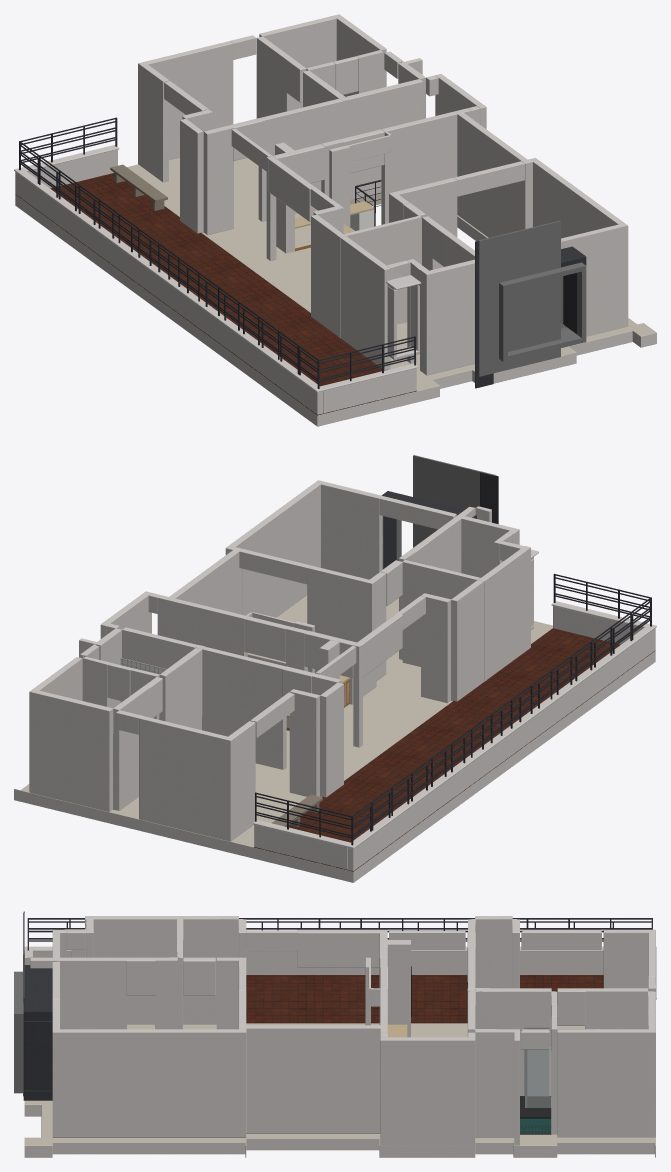
Rendered from second.gltf.
3 renders of one model, top to bottom at view 1: azimuth 30°, elevation 25°; view 2: azimuth 150°, elevation 25°; view 3: azimuth 270°, elevation 25°, orthographic. The views are drawn at different scales.
Visible parts, largest first — view 1: Lime White_wall.003, Lime White.003, Terracotta.002, Charcoal Plaster_wall.001, Terrazzo.003, Charcoal Steel.002, Lime White_high.003, Lime White Shade.002, Charcoal Steel_high.001, Cladding.001, Weathered Teak; view 2: Lime White_wall.003, Lime White.003, Terracotta.002, Terrazzo.003, Lime White_high.003, Charcoal Steel.002, Lime White Shade.002, Charcoal Plaster_wall.001, Charcoal Steel_high.001, Cladding.001, Weathered Teak; view 3: Lime White_wall.003, Lime White.003, Terracotta.002, Lime White_high.003, Terrazzo.003, Cladding.001, Charcoal Steel.002, Glass.001, Charcoal Plaster_wall.001, Brushed Steel.001, Black Slate, Charcoal Steel_high.001 (+2 smaller).
Part boxes in pixels (box(x1,y1,x2,y2)): Lime White_wall.003: box(138, 14, 628, 375); Lime White.003: box(15, 142, 656, 426); Terracotta.002: box(15, 173, 416, 415); Charcoal Plaster_wall.001: box(479, 220, 586, 376); Terrazzo.003: box(127, 157, 656, 390); Charcoal Steel.002: box(19, 117, 415, 388); Lime White_high.003: box(164, 35, 563, 285); Lime White Shade.002: box(14, 145, 417, 392); Charcoal Steel_high.001: box(19, 121, 414, 372); Cladding.001: box(475, 240, 586, 388); Weathered Teak: box(110, 164, 167, 210); Lime White_wall.003: box(29, 480, 530, 841); Lime White.003: box(14, 549, 655, 882); Terracotta.002: box(254, 628, 655, 871); Terrazzo.003: box(14, 595, 552, 847); Lime White_high.003: box(80, 496, 523, 737); Charcoal Steel.002: box(255, 573, 651, 845); Lime White Shade.002: box(253, 601, 656, 848); Charcoal Plaster_wall.001: box(382, 455, 494, 569); Charcoal Steel_high.001: box(256, 577, 651, 829); Cladding.001: box(382, 472, 498, 568); Weathered Teak: box(271, 794, 322, 826); Lime White_wall.003: box(24, 916, 655, 1145); Lime White.003: box(24, 929, 655, 1157); Terracotta.002: box(246, 975, 603, 1023); Lime White_high.003: box(52, 919, 655, 1049); Terrazzo.003: box(24, 1023, 655, 1145); Cladding.001: box(23, 911, 52, 1100); Charcoal Steel.002: box(27, 918, 652, 950); Glass.001: box(527, 1047, 550, 1107); Charcoal Plaster_wall.001: box(14, 913, 24, 1096); Brushed Steel.001: box(524, 1027, 549, 1107); Black Slate: box(520, 1096, 551, 1134); Charcoal Steel_high.001: box(29, 921, 651, 932).
Size of the model in its own units: 4.6 by 1.9 by 7.2.
Materials: 19 (5 with a texture image).
